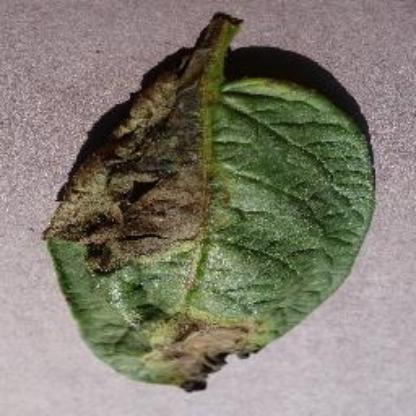Late-Blight: (44, 9, 380, 393)
